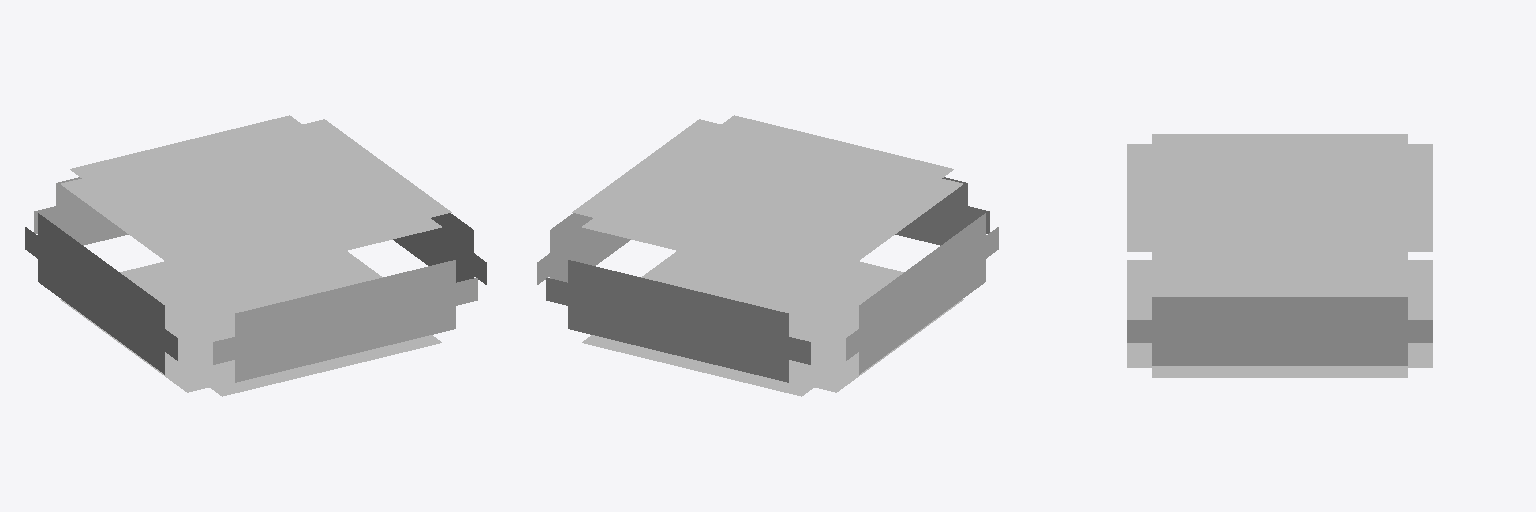
File: reinforced_chest_lid.obj
The picture shows the model from 3 angles: view 1: azimuth 30°, elevation 25°; view 2: azimuth 150°, elevation 25°; view 3: azimuth 270°, elevation 25°; orthographic projection.
Visible parts, largest first — view 1: reinforced_chest_lid; view 2: reinforced_chest_lid; view 3: reinforced_chest_lid.
Boxes of the visible parts, x1=… form: reinforced_chest_lid: x1=25, y1=115, x2=486, y2=396; reinforced_chest_lid: x1=537, y1=115, x2=998, y2=396; reinforced_chest_lid: x1=1127, y1=134, x2=1432, y2=377.
Size of the model in its own units: 0.875 by 0.3125 by 0.875.